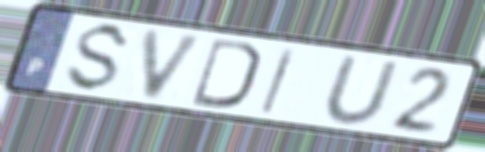2: (385, 65, 455, 137)
D: (188, 35, 263, 112)
I: (257, 45, 301, 117)
S: (61, 21, 135, 95)
U: (321, 54, 403, 129)
V: (141, 26, 211, 104)
